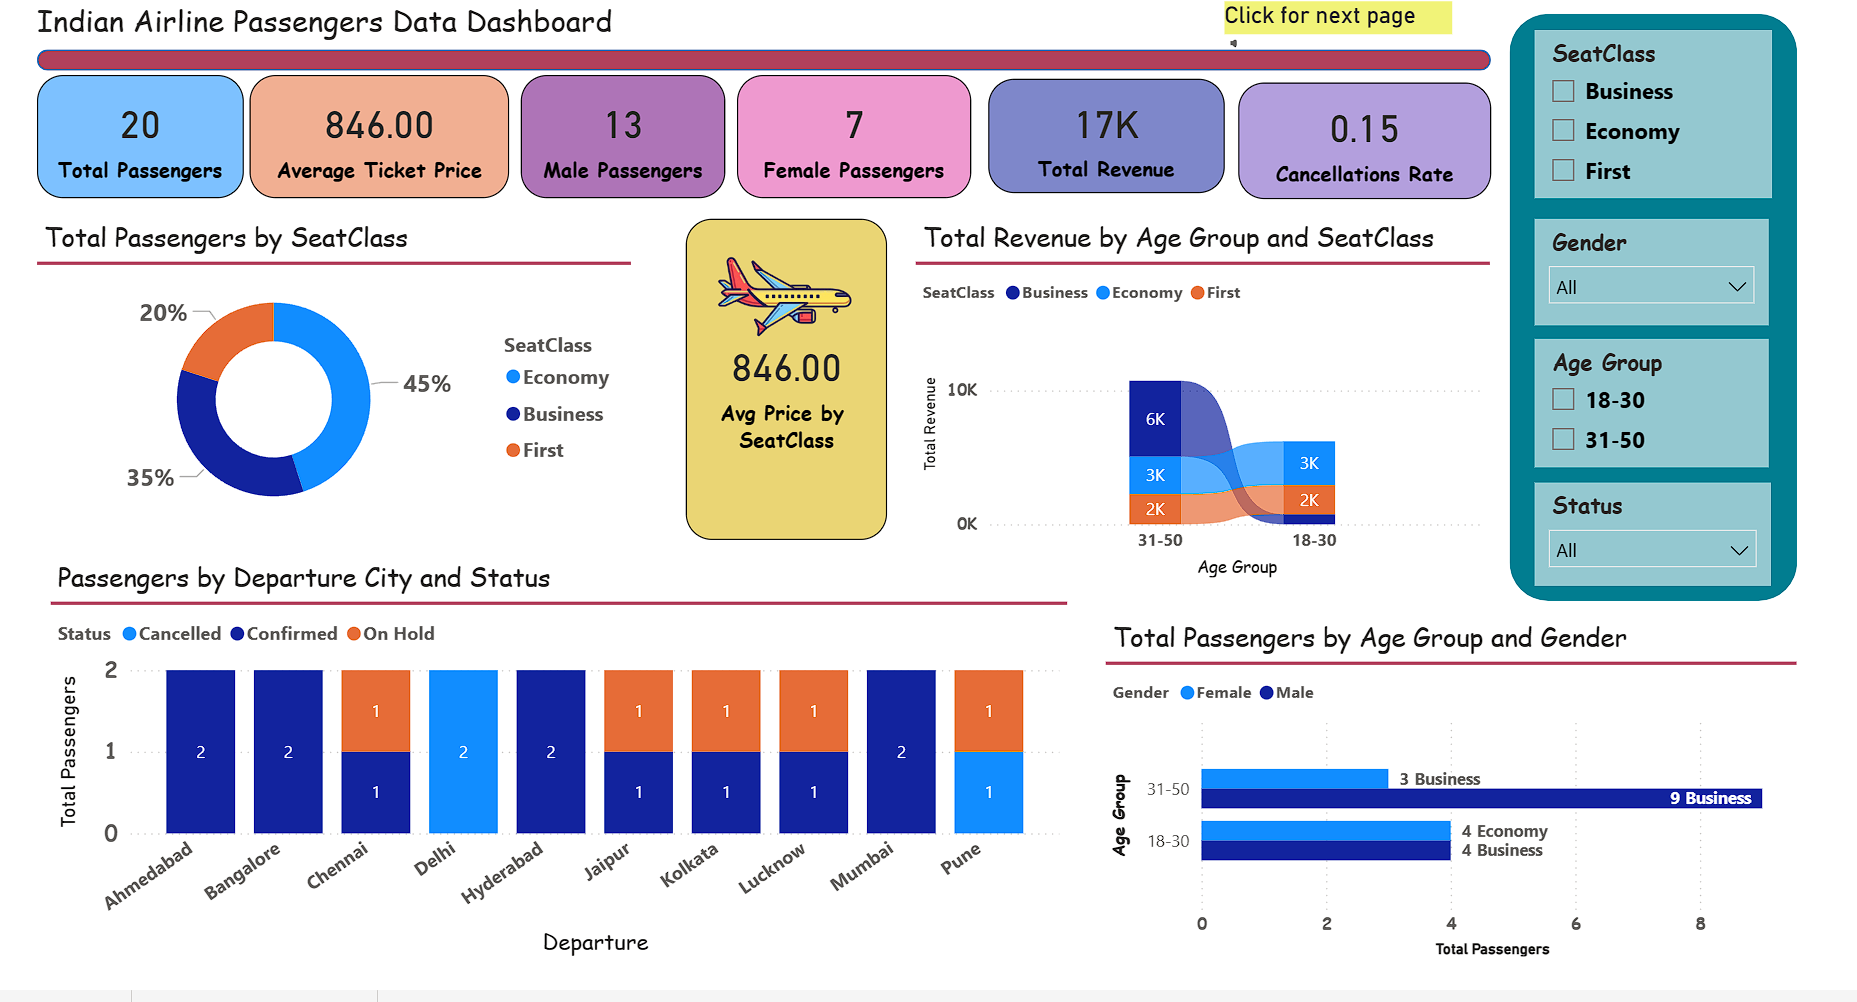

Layout of this report page (visuals, bound fields, positions):
{"tool":"powerbi","page":{"name":"comparisons & insights","canvas":[1280,720],"ordinal":0},"visuals":[{"type":"card","fields":{"Values":["airline_passengers_indian(1).Total Passengers"]},"box":[0,54.8,150,89.5],"z":0},{"type":"card","fields":{"Values":["airline_passengers_indian(1).Total Revenue"]},"box":[691.6,57.2,171.7,83.3],"z":1000},{"type":"card","fields":{"Values":["airline_passengers_indian(1).Average Ticket Price"]},"box":[154.4,54.8,189,89.5],"z":2000},{"type":"card","fields":{"Values":["airline_passengers_indian(1).Male Passengers"]},"box":[352,54.8,148.6,89.5],"z":3000},{"type":"card","fields":{"Values":["airline_passengers_indian(1).Female Passengers"]},"box":[509.3,54.8,170.2,89.5],"z":4000},{"type":"card","fields":{"Values":["airline_passengers_indian(1).Cancellations Rate"]},"box":[873.3,59.7,184.1,84.6],"z":4001},{"type":"card","fields":{"Values":["airline_passengers_indian(1).Avg Price by SeatClass"]},"box":[471.5,159.2,146.8,233.9],"z":4002},{"type":"shape","title":"Indian Airline Passengers Data Dashboard","box":[0,0,1057.4,51],"z":4003},{"type":"shape","title":"Filter","box":[1070.5,10.1,209.2,427.1],"z":4004},{"type":"slicer","fields":{"Values":["airline_passengers_indian(1).SeatClass"]},"box":[1089.3,21.6,173.1,122.6],"z":4005},{"type":"slicer","fields":{"Values":["airline_passengers_indian(1).Gender"]},"box":[1089.3,158.7,170.2,77.9],"z":4006},{"type":"slicer","fields":{"Values":["airline_passengers_indian(1).Age Group"]},"box":[1089.3,246.7,170.2,93.8],"z":4007},{"type":"slicer","fields":{"Values":["airline_passengers_indian(1).Status"]},"box":[1089.3,350.6,171.7,75],"z":4008},{"type":"ribbonChart","fields":{"Category":["airline_passengers_indian(1).Age Group"],"Series":["airline_passengers_indian(1).SeatClass"],"Y":["airline_passengers_indian(1).Total Revenue"]},"box":[639.4,159.2,418,266.2],"z":4009},{"type":"columnChart","title":"Passengers by Departure City and Status","fields":{"Category":["airline_passengers_indian(1).Departure"],"Y":["airline_passengers_indian(1).Total Passengers"],"Series":["airline_passengers_indian(1).Status"]},"box":[10,406.8,738.9,294.8],"z":4010},{"type":"donutChart","fields":{"Category":["airline_passengers_indian(1).SeatClass"],"Y":["airline_passengers_indian(1).Total Passengers"]},"box":[0,159.2,431.7,228.9],"z":4011},{"type":"clusteredBarChart","fields":{"Category":["airline_passengers_indian(1).Age Group"],"Y":["airline_passengers_indian(1).Total Passengers"],"Series":["airline_passengers_indian(1).Gender"]},"box":[777.5,450.3,502.6,251.3],"z":4012},{"type":"actionButton","title":"Click for next page","box":[863.3,1.2,165.4,37.3],"z":4013},{"type":"image","box":[482.7,156.7,123.2,116.9],"z":4014}]}

Visuals, with their boxes on the page's 1280x720 design canvas (x1, y1, x2, y2). These are canvas units, not pixel positions in the 1857x1002 screenshot, which may show the page scaled, cropped or inside an application window:
card - airline_passengers_indian(1).Total Passengers: x1=0 y1=55 x2=150 y2=144
card - airline_passengers_indian(1).Total Revenue: x1=692 y1=57 x2=863 y2=140
card - airline_passengers_indian(1).Average Ticket Price: x1=154 y1=55 x2=343 y2=144
card - airline_passengers_indian(1).Male Passengers: x1=352 y1=55 x2=501 y2=144
card - airline_passengers_indian(1).Female Passengers: x1=509 y1=55 x2=680 y2=144
card - airline_passengers_indian(1).Cancellations Rate: x1=873 y1=60 x2=1057 y2=144
card - airline_passengers_indian(1).Avg Price by SeatClass: x1=472 y1=159 x2=618 y2=393
"Indian Airline Passengers Data Dashboard" shape: x1=0 y1=0 x2=1057 y2=51
"Filter" shape: x1=1070 y1=10 x2=1280 y2=437
slicer - airline_passengers_indian(1).SeatClass: x1=1089 y1=22 x2=1262 y2=144
slicer - airline_passengers_indian(1).Gender: x1=1089 y1=159 x2=1260 y2=237
slicer - airline_passengers_indian(1).Age Group: x1=1089 y1=247 x2=1260 y2=340
slicer - airline_passengers_indian(1).Status: x1=1089 y1=351 x2=1261 y2=426
ribbonChart - airline_passengers_indian(1).Age Group x airline_passengers_indian(1).SeatClass: x1=639 y1=159 x2=1057 y2=425
"Passengers by Departure City and Status" columnChart: x1=10 y1=407 x2=749 y2=702
donutChart - airline_passengers_indian(1).SeatClass x airline_passengers_indian(1).Total Passengers: x1=0 y1=159 x2=432 y2=388
clusteredBarChart - airline_passengers_indian(1).Age Group x airline_passengers_indian(1).Total Passengers: x1=778 y1=450 x2=1280 y2=702
"Click for next page" actionButton: x1=863 y1=1 x2=1029 y2=38
image: x1=483 y1=157 x2=606 y2=274
